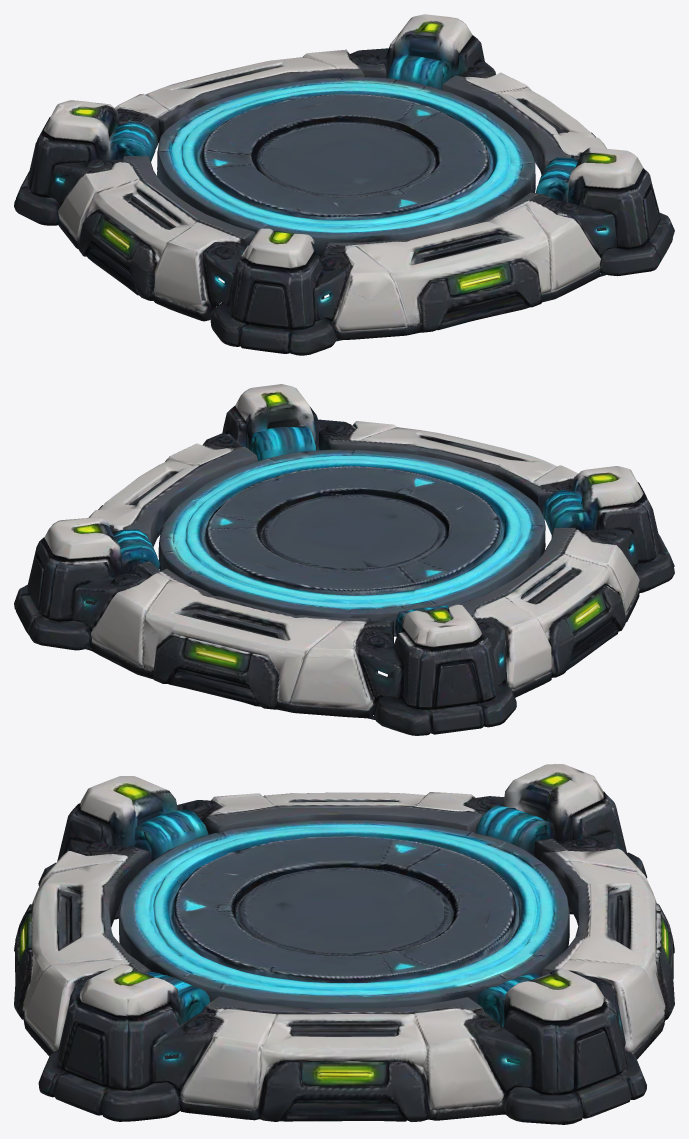
File: model-18-pressure-pad.glb
3 views of the same model, one above another, from view 1: azimuth 30°, elevation 25°; view 2: azimuth 150°, elevation 25°; view 3: azimuth 270°, elevation 25° (orthographic). The views are drawn at different scales.
Visible parts, largest first — view 1: node_0; view 2: node_0; view 3: node_0.
Boxes of the visible parts, <box> form: node_0: <box>14,14,674,355</box>; node_0: <box>14,384,674,735</box>; node_0: <box>14,764,674,1124</box>.
Bounding box in the file's own units: 0.9815 × 0.1733 × 0.9831.
Materials: 1 (1 with a texture image).
